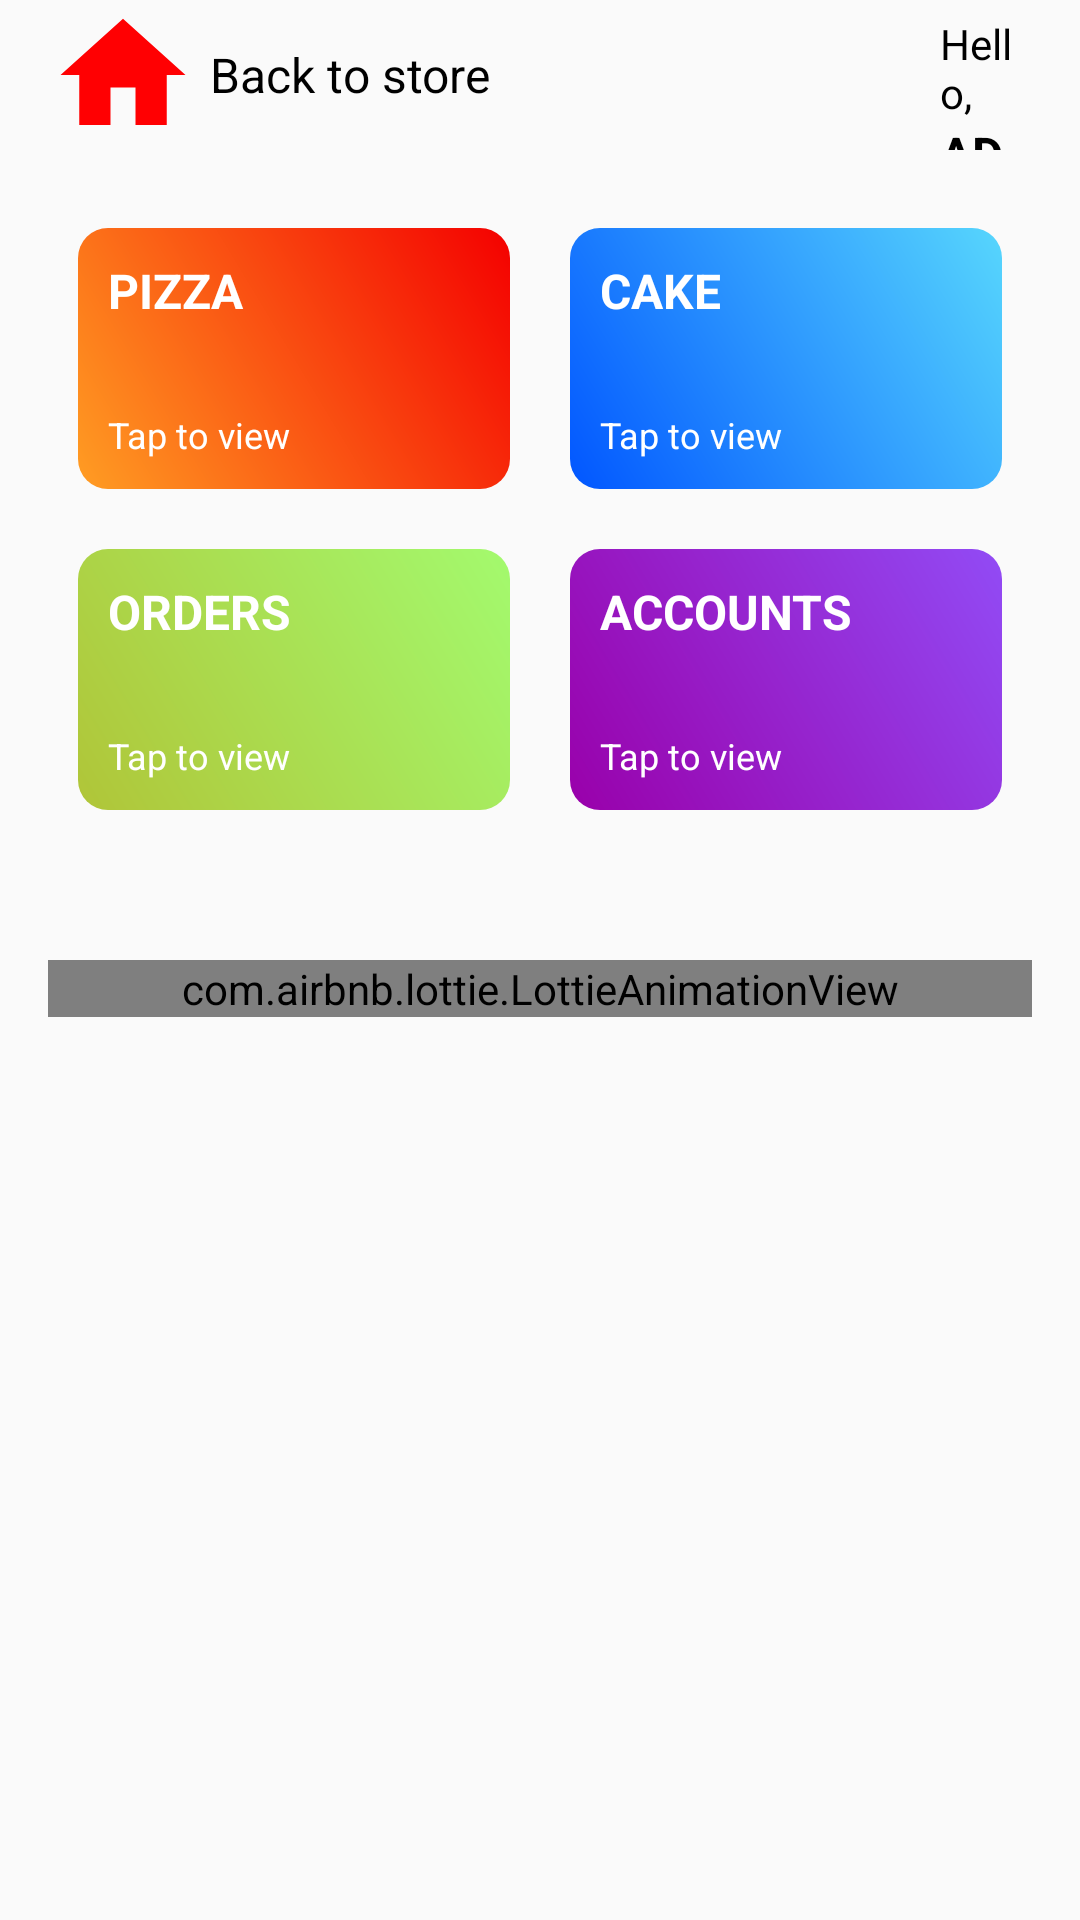

Screen size 1080w x 1920h. Icon name, then its box in pixels as BBox(x1, y1, x2, y2):
home: BBox(61, 19, 185, 125)
